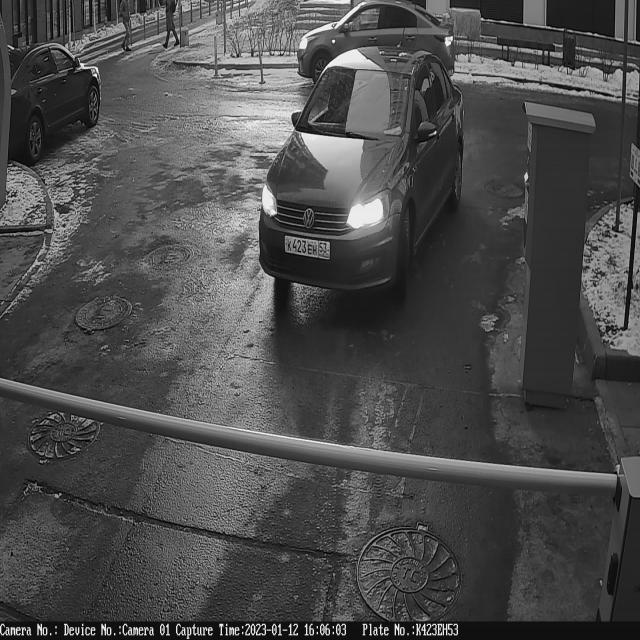car-plate-numbers: (282, 227, 334, 264)
